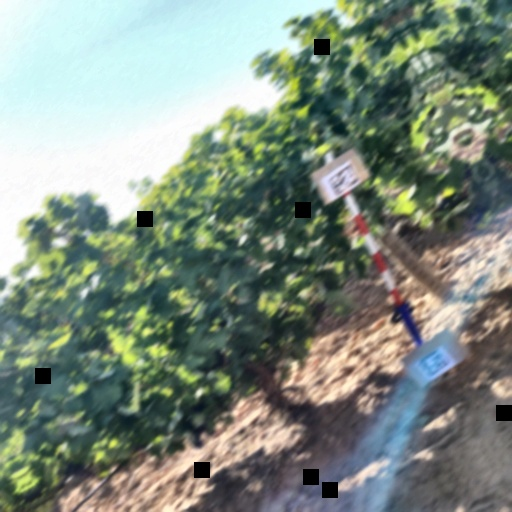QR: (416, 345, 453, 380), (325, 163, 361, 197)
